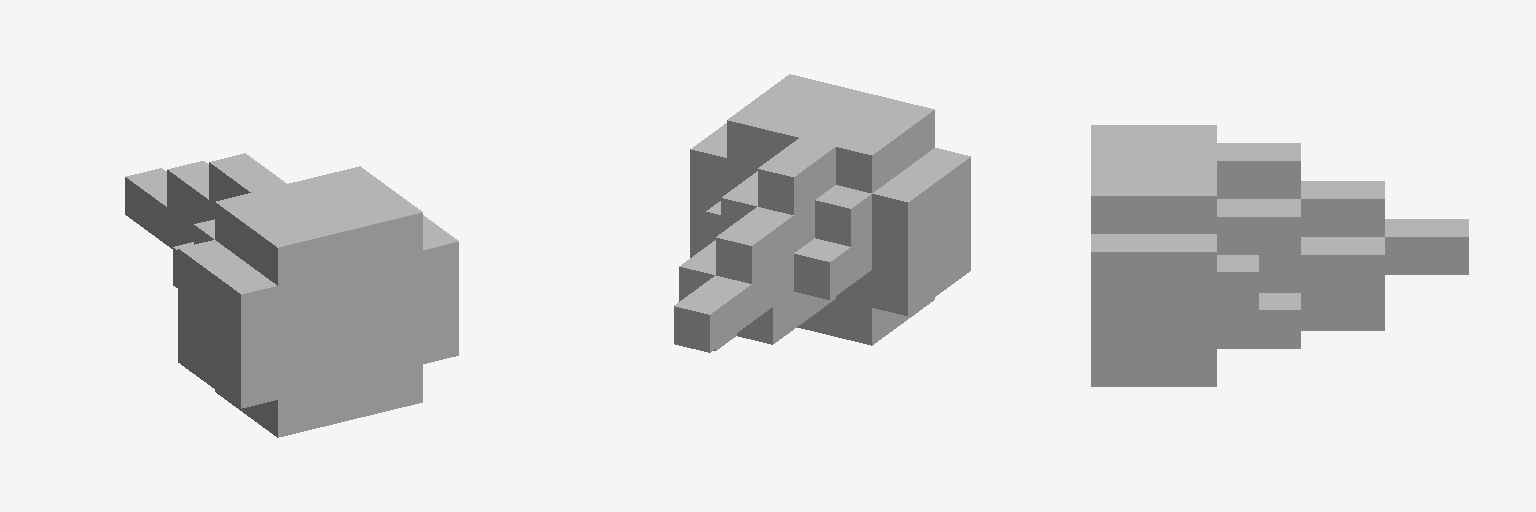
The model's file is Flame.obj.
3 renders of one model, left to right at view 1: azimuth 30°, elevation 25°; view 2: azimuth 150°, elevation 25°; view 3: azimuth 270°, elevation 25°, orthographic.
Visible parts, largest first — view 1: flame1; view 2: flame1; view 3: flame1.
Boxes of the visible parts, <box> form: flame1: <box>125,153,458,437</box>; flame1: <box>674,74,970,352</box>; flame1: <box>1091,125,1468,386</box>.
Bounding box in the file's own units: 0.6 × 0.5 × 0.9.